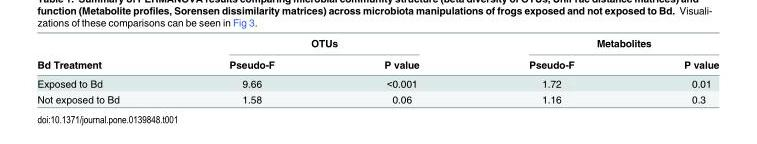table: (36, 36, 718, 104)
table column: (173, 36, 328, 104), (473, 36, 628, 104), (328, 36, 473, 104), (36, 36, 173, 104), (628, 36, 718, 104)
table column header: (36, 36, 718, 73)
table row: (36, 53, 718, 73), (36, 73, 718, 91), (36, 36, 718, 53), (36, 91, 718, 104)
table spanning cell: (173, 36, 473, 53), (36, 36, 173, 73), (473, 36, 718, 53)
